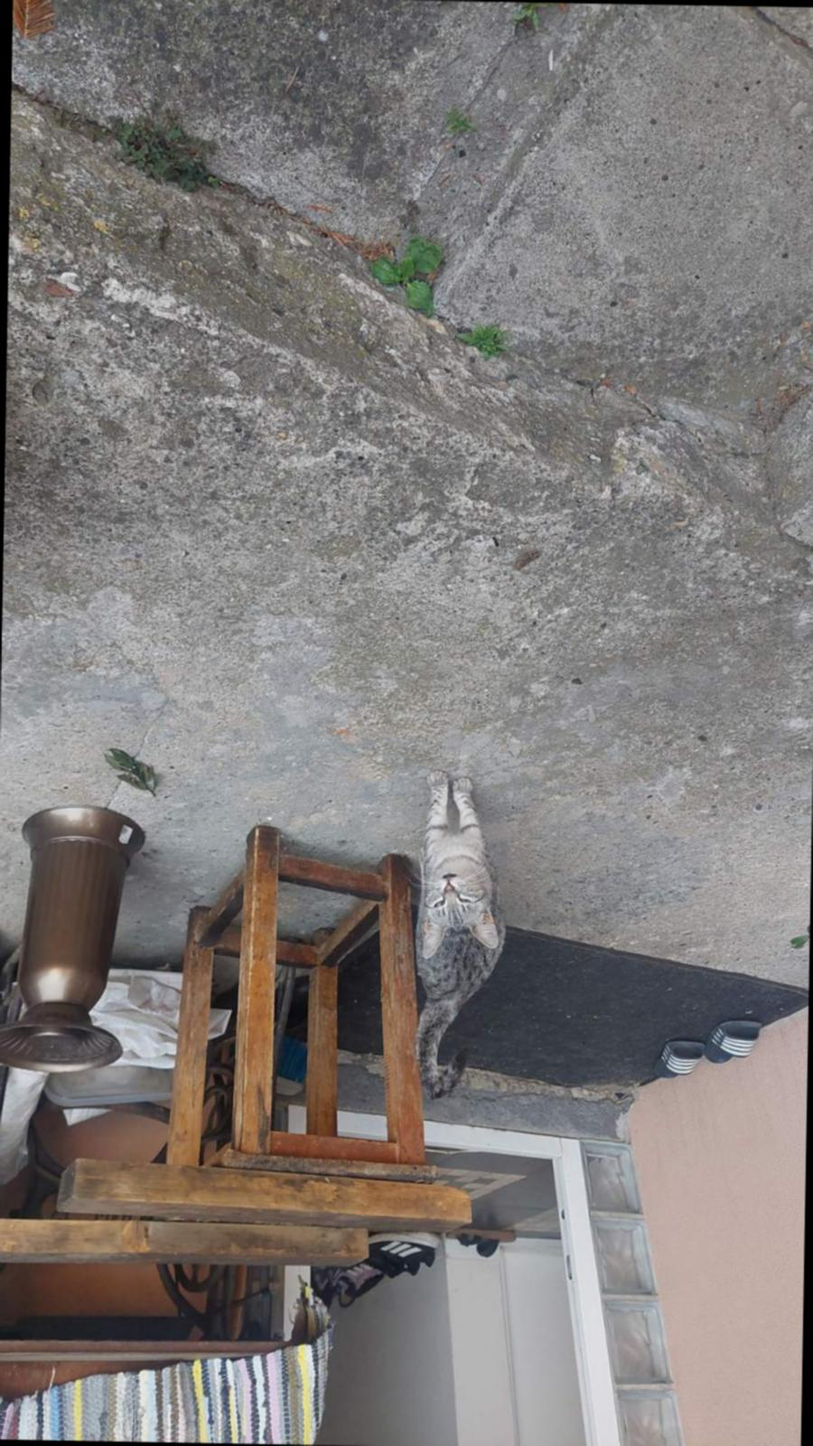macka: (411, 769, 508, 1103)
